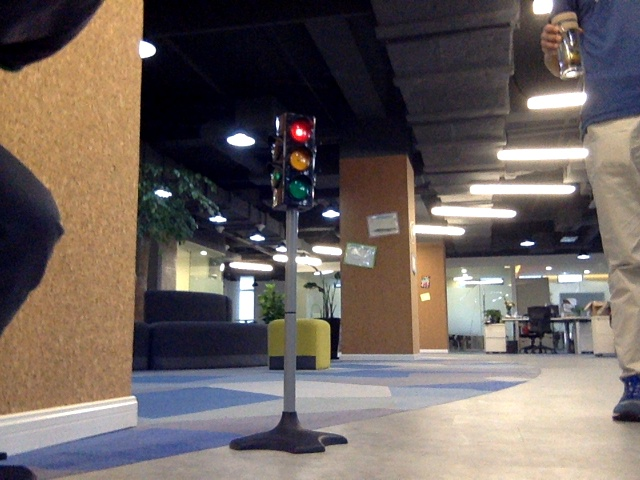red: (281, 117, 311, 200)
